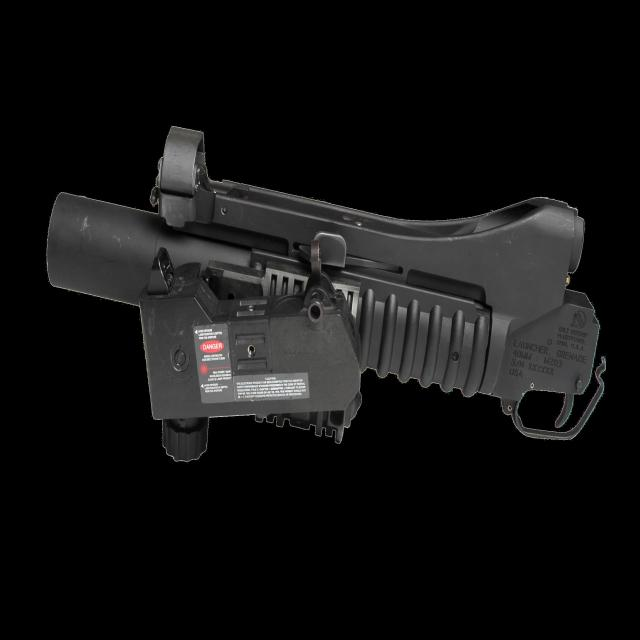weapon: (39, 114, 606, 500)
